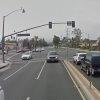Traffic light: (38, 12, 81, 31)
